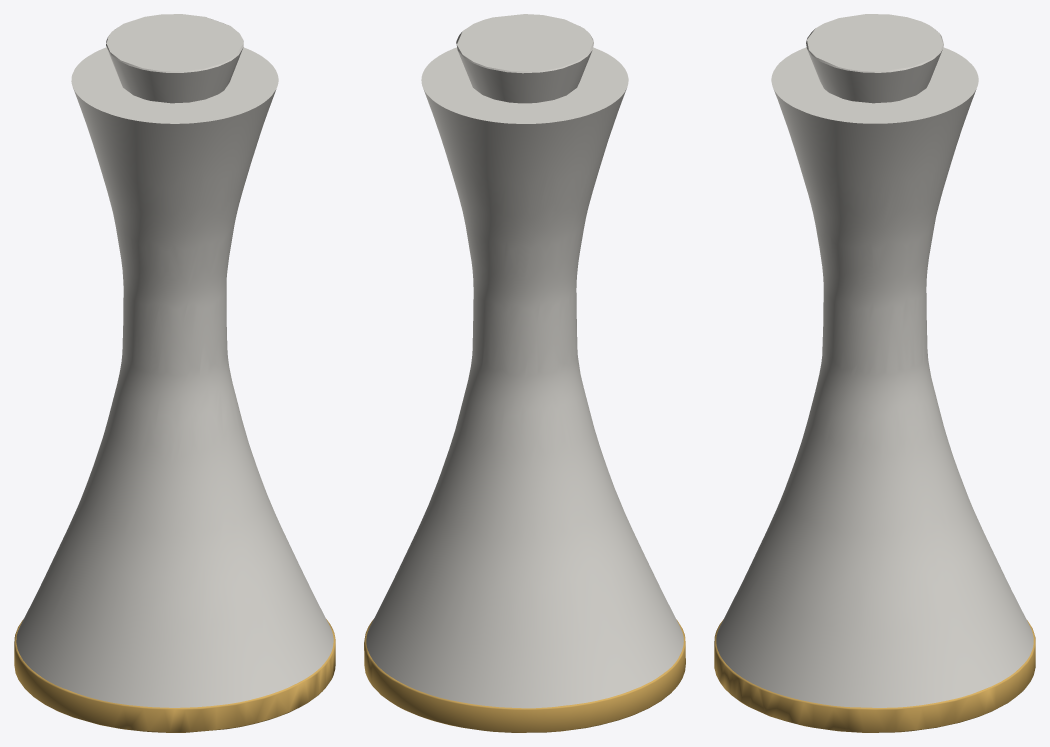
The model's file is queen-white.glb.
The picture shows the model from 3 angles, left to right: view 1: azimuth 30°, elevation 25°; view 2: azimuth 150°, elevation 25°; view 3: azimuth 270°, elevation 25°; orthographic projection.
Visible parts, largest first — view 1: 05_dama_telo_0, 05_dama_telo_1, 05_dama_podstavec; view 2: 05_dama_telo_0, 05_dama_telo_1, 05_dama_podstavec; view 3: 05_dama_telo_0, 05_dama_telo_1, 05_dama_podstavec.
Boxes of the visible parts, left/top/right/bottom form: 05_dama_telo_0: left=16, top=47, right=333, bottom=707; 05_dama_telo_1: left=106, top=14, right=243, bottom=103; 05_dama_podstavec: left=14, top=619, right=335, bottom=732; 05_dama_telo_0: left=366, top=47, right=683, bottom=708; 05_dama_telo_1: left=456, top=14, right=593, bottom=103; 05_dama_podstavec: left=364, top=619, right=685, bottom=732; 05_dama_telo_0: left=716, top=47, right=1033, bottom=707; 05_dama_telo_1: left=806, top=14, right=943, bottom=103; 05_dama_podstavec: left=714, top=619, right=1035, bottom=732.
Bounding box in the file's own units: 0.725 × 1.55 × 0.725.
